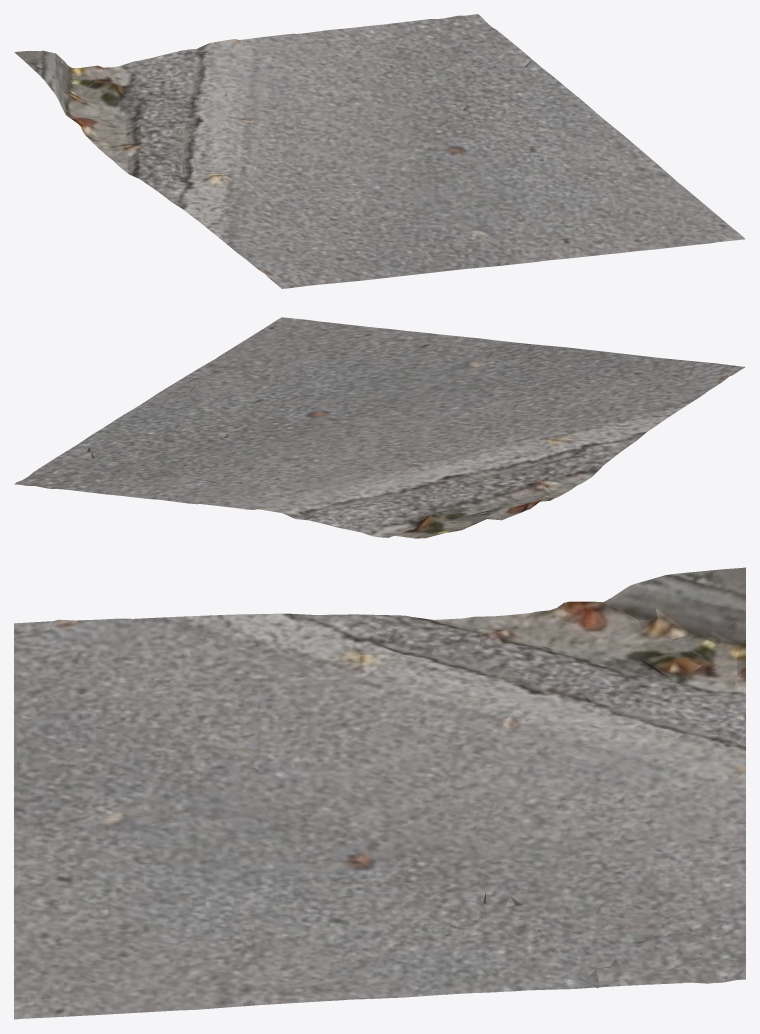
3 views of the same model, one above another, from view 1: azimuth 30°, elevation 25°; view 2: azimuth 150°, elevation 25°; view 3: azimuth 270°, elevation 25° (orthographic). The views are drawn at different scales.
Size of the model in its own units: 1.67 by 0.3604 by 1.67.
Materials: 3 (3 with a texture image).
